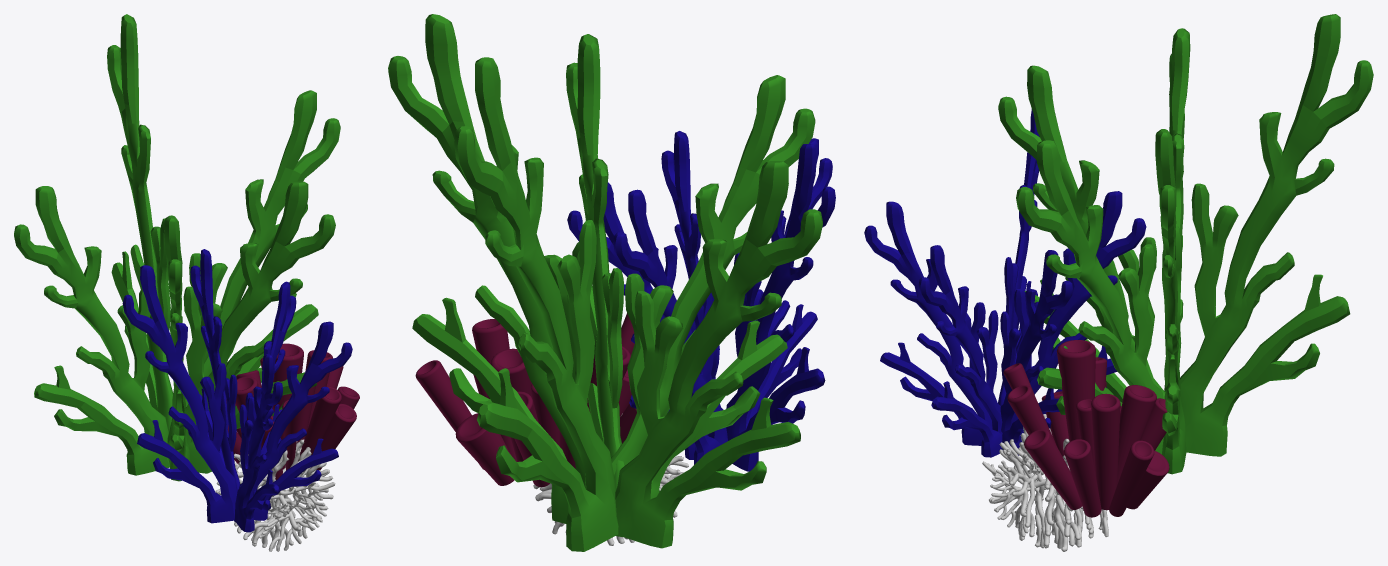
File: coral_1.obj
The picture shows the model from 3 angles, left to right: view 1: azimuth 30°, elevation 25°; view 2: azimuth 150°, elevation 25°; view 3: azimuth 270°, elevation 25°; orthographic projection. The views are drawn at different scales.
Parts seen in each view (by area): view 1: pCylinder23_Redd_0.001; view 2: pCylinder23_Redd_0.001; view 3: pCylinder23_Redd_0.001.
Boxes of the visible parts, bbox=[...] form: pCylinder23_Redd_0.001: bbox=[14, 14, 359, 551]; pCylinder23_Redd_0.001: bbox=[388, 14, 835, 551]; pCylinder23_Redd_0.001: bbox=[864, 14, 1373, 551].
Bounding box in the file's own units: 1.92 × 2.54 × 2.27.
